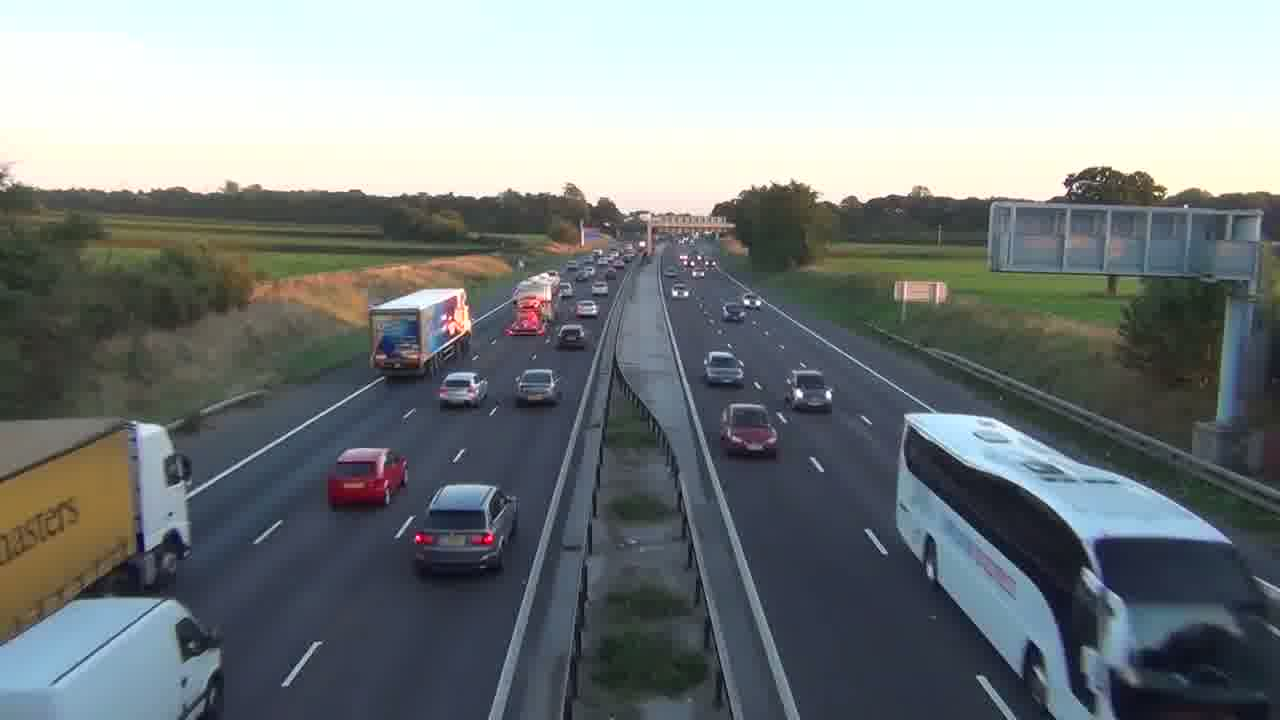bus: (894, 411, 1279, 716), (369, 286, 472, 375)
car: (410, 482, 520, 576), (327, 447, 408, 509), (718, 401, 780, 457), (784, 367, 833, 413), (437, 369, 488, 409), (514, 367, 564, 406), (703, 347, 745, 386), (556, 323, 587, 350)
truck: (0, 594, 225, 718), (369, 286, 472, 375)
